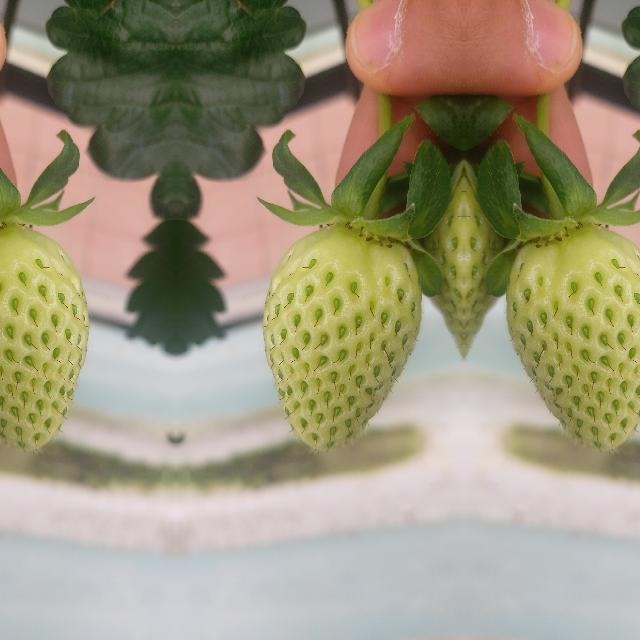Health_25: (262, 222, 421, 450), (505, 222, 640, 450), (0, 222, 88, 450)
